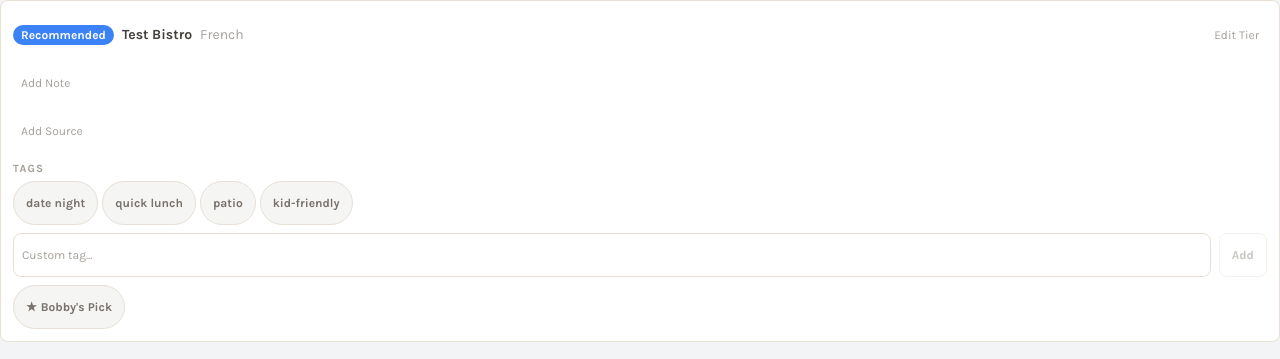
Test: SessionRestaurantCard › collapses back to display state after applying
Step 1. Click the button "Edit Tier" → (1237,35), box [1206, 13, 1267, 57]
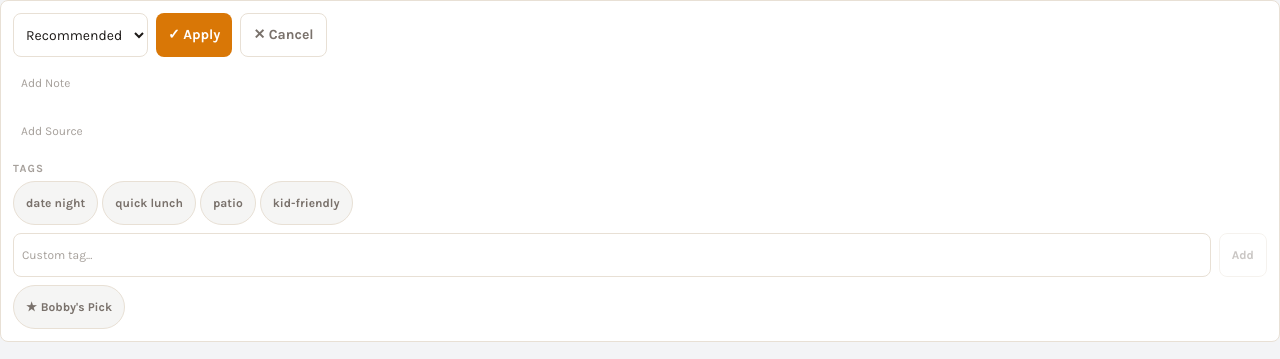
Step 2. Click the button with aria-label "apply tier change" → (194,35), box [156, 13, 232, 57]
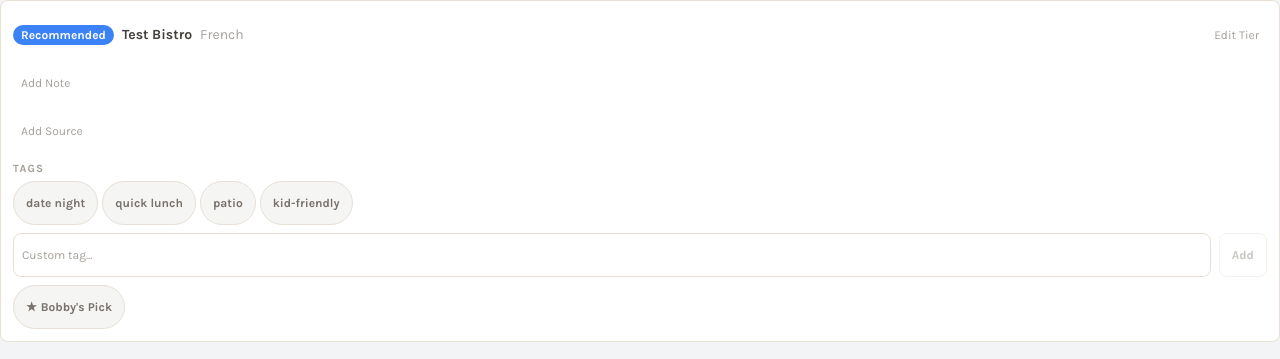
expect the dropdown is gone: met
